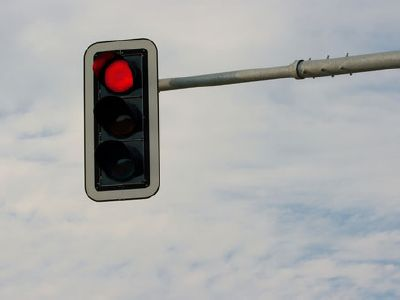trafficlight_red: (92, 53, 143, 186)
